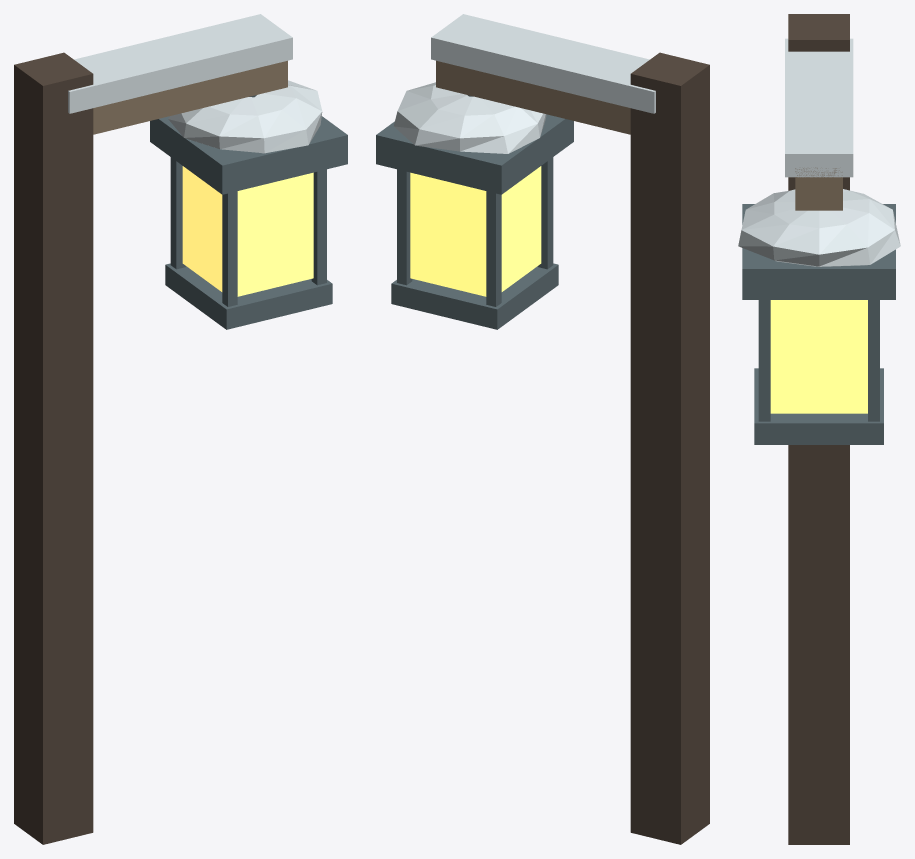
File: PROP_10_LanternPost.glb
3 renders of one model, left to right at view 1: azimuth 30°, elevation 25°; view 2: azimuth 150°, elevation 25°; view 3: azimuth 270°, elevation 25°, orthographic. The views are drawn at different scales.
Visible parts, largest first — view 1: PROP_10_LanternPost; view 2: PROP_10_LanternPost; view 3: PROP_10_LanternPost.
Part boxes in pixels (x1=…): PROP_10_LanternPost: x1=14, y1=14, x2=347, y2=844; PROP_10_LanternPost: x1=376, y1=14, x2=709, y2=844; PROP_10_LanternPost: x1=738, y1=14, x2=900, y2=844.
Size of the model in its own units: 1.04 by 2.6 by 0.4761.
